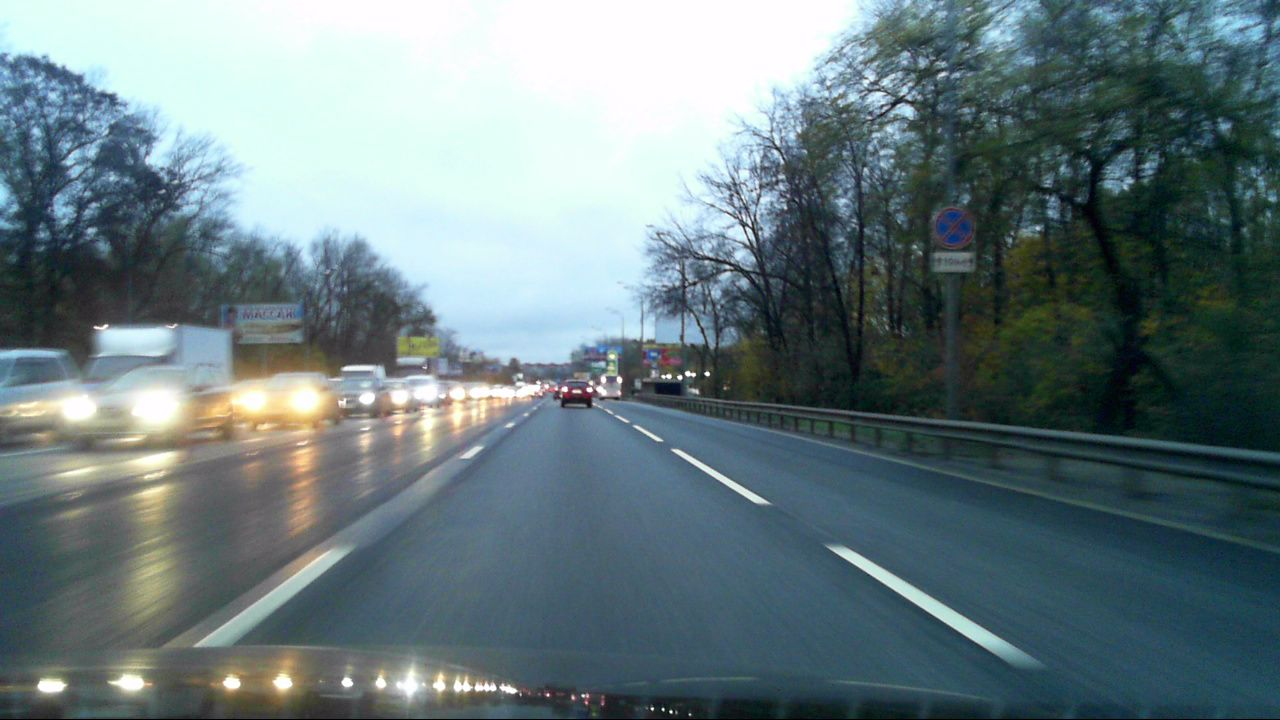No Parking: (932, 208, 975, 248)
